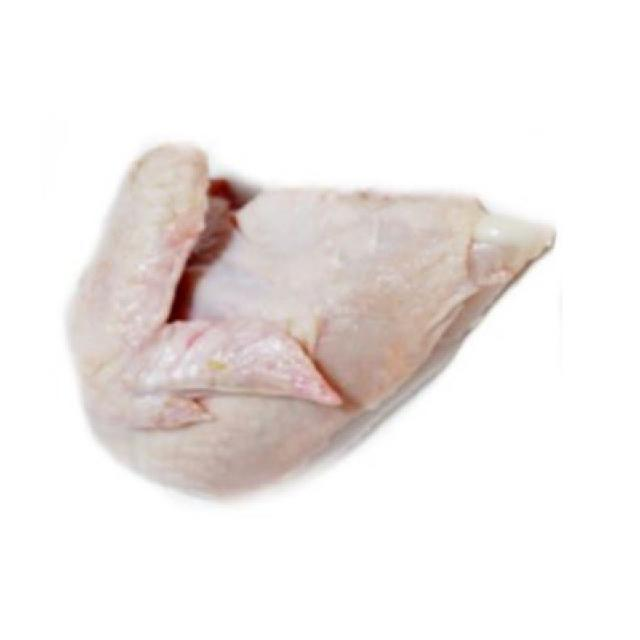chicken: (71, 146, 549, 496)
